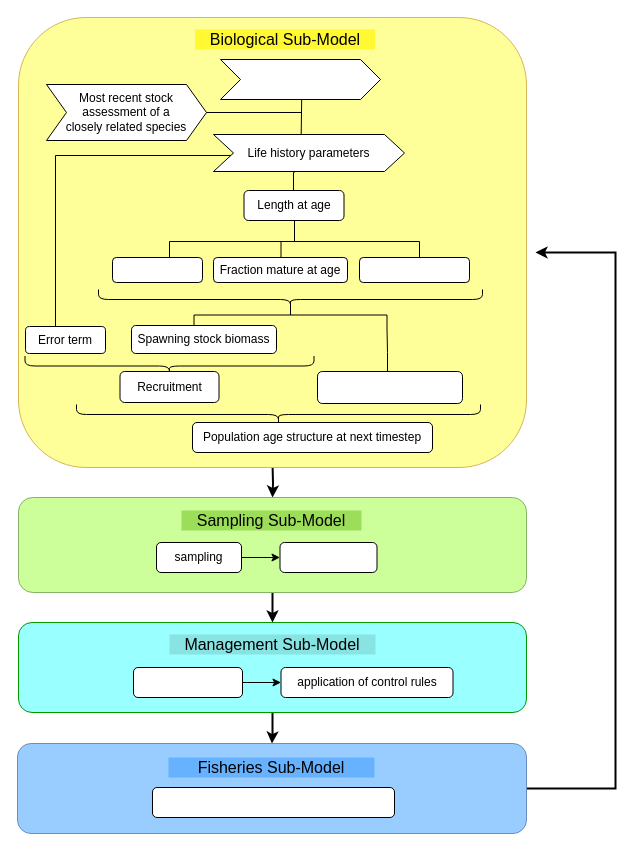
Image size: 642x851. Some labels were removed from this diagram. Here are the shapes that lost their labels. From the top down, the centre of each, then its label:
pixel 300 79: Most recent stock assessment
pixel 157 269: Weight at age
pixel 414 269: Selectivity at age
pixel 389 387: Fishing mortality rates
pixel 328 557: density ratio
pixel 187 682: management
pixel 273 802: removal of individuals from the population
